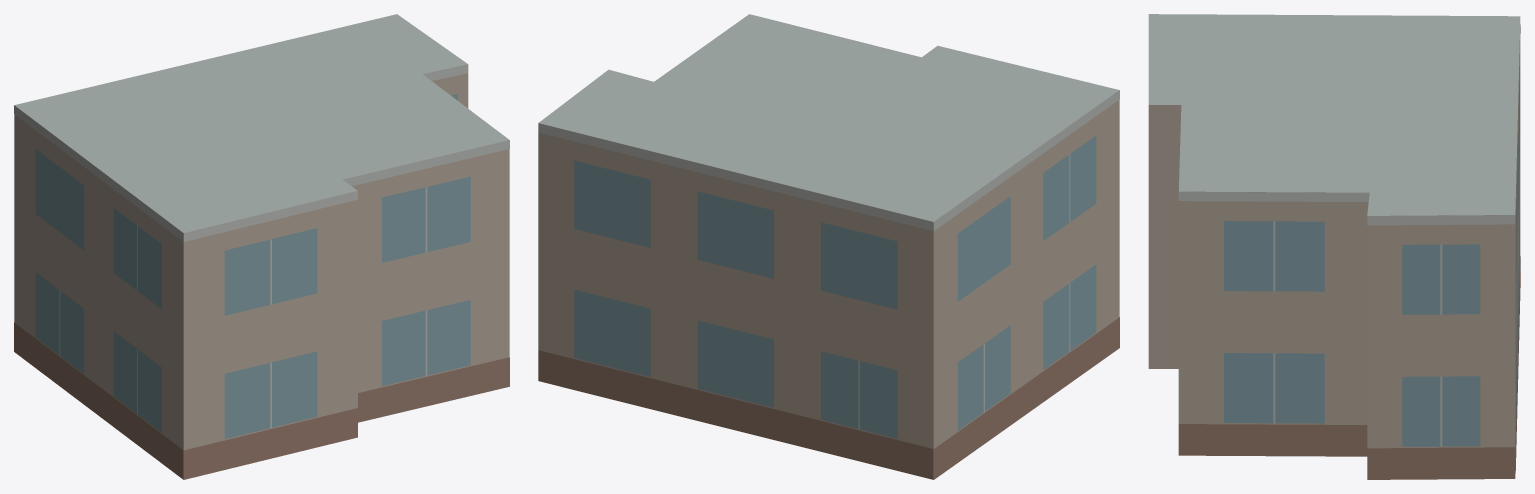
File: survey-upis-32604391.glb
3 views of the same model, side by side, from view 1: azimuth 30°, elevation 25°; view 2: azimuth 150°, elevation 25°; view 3: azimuth 270°, elevation 25° (orthographic). The views are drawn at different scales.
Parts seen in each view (by area): view 1: survey-upis-32604391.tmp; view 2: survey-upis-32604391.tmp; view 3: survey-upis-32604391.tmp.
Part boxes in pixels (x1=…): survey-upis-32604391.tmp: x1=14, y1=14, x2=509, y2=479; survey-upis-32604391.tmp: x1=538, y1=14, x2=1119, y2=479; survey-upis-32604391.tmp: x1=1148, y1=14, x2=1520, y2=479.
Bounding box in the file's own units: 11.17 × 6.8 × 8.7.
